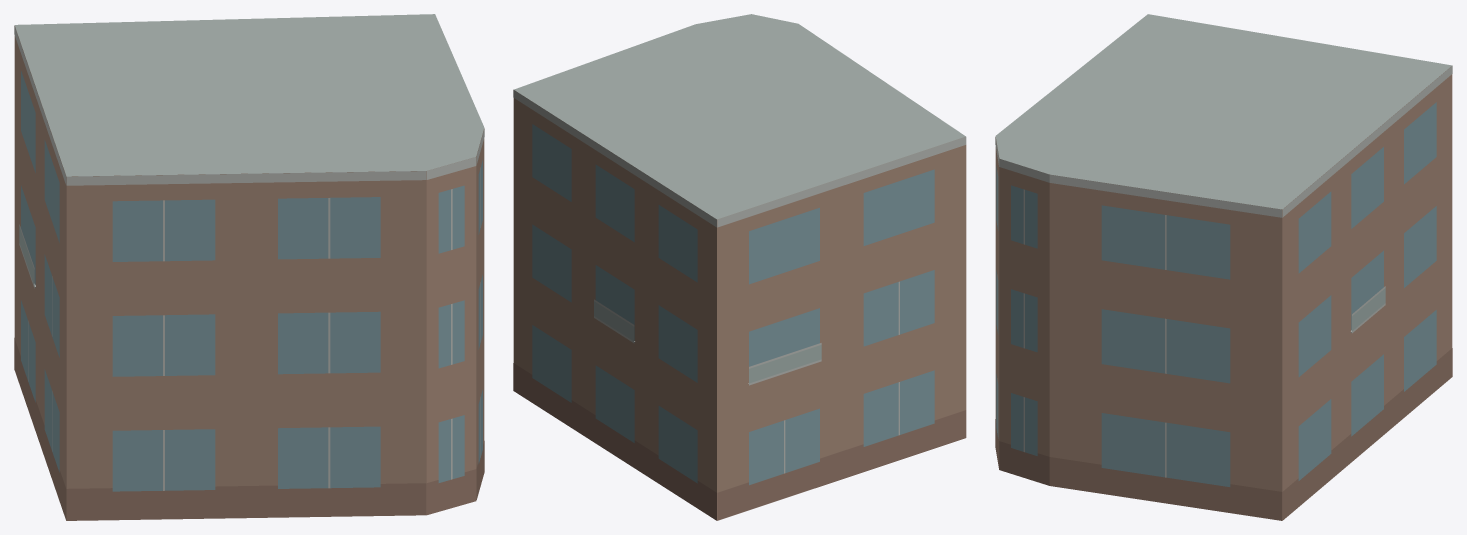
File: survey-upis-32668908.glb
3 views of the same model, side by side, from view 1: azimuth 30°, elevation 25°; view 2: azimuth 150°, elevation 25°; view 3: azimuth 270°, elevation 25° (orthographic). The views are drawn at different scales.
Parts seen in each view (by area): view 1: survey-upis-32668908.tmp; view 2: survey-upis-32668908.tmp; view 3: survey-upis-32668908.tmp.
Boxes of the visible parts, box(x1,y1,x2,y2) form: survey-upis-32668908.tmp: box(14, 14, 484, 520); survey-upis-32668908.tmp: box(513, 14, 966, 520); survey-upis-32668908.tmp: box(995, 14, 1452, 520).
Bounding box in the file's own units: 12.26 × 9.1 × 12.11.
